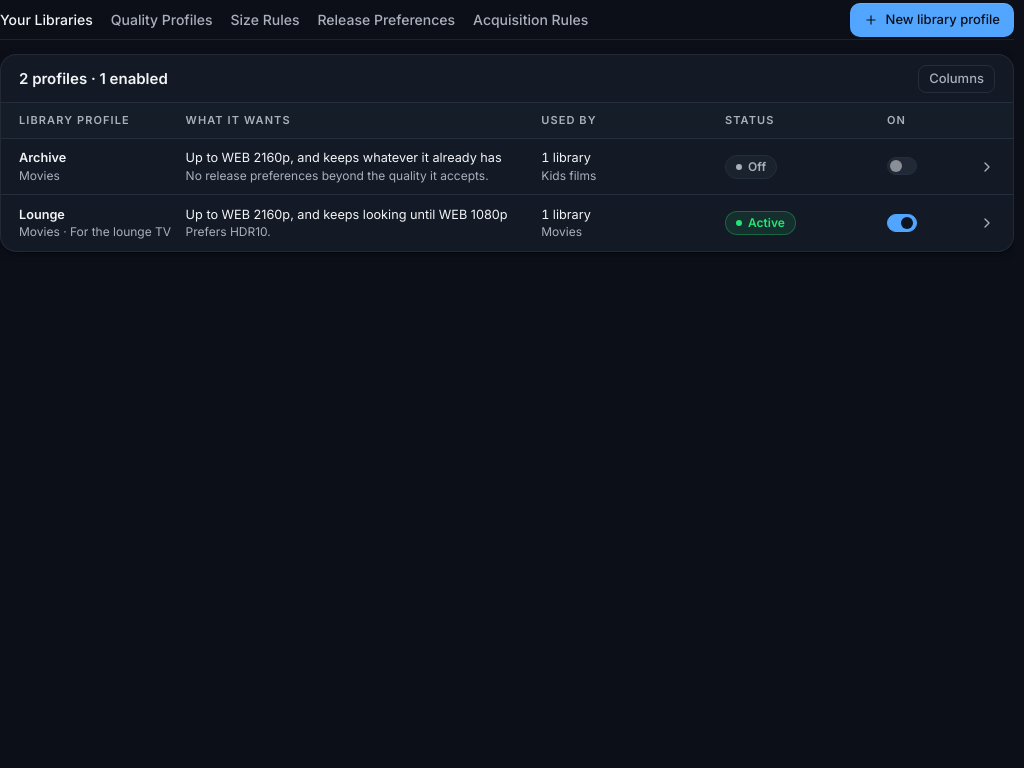
it: Library Profile drawer › saves the profile but names the library it could not be attached to when that part fails
The image size is (1024, 768).
Click the button "New library profile" at (932, 20), box 850,2 -> 1014,36
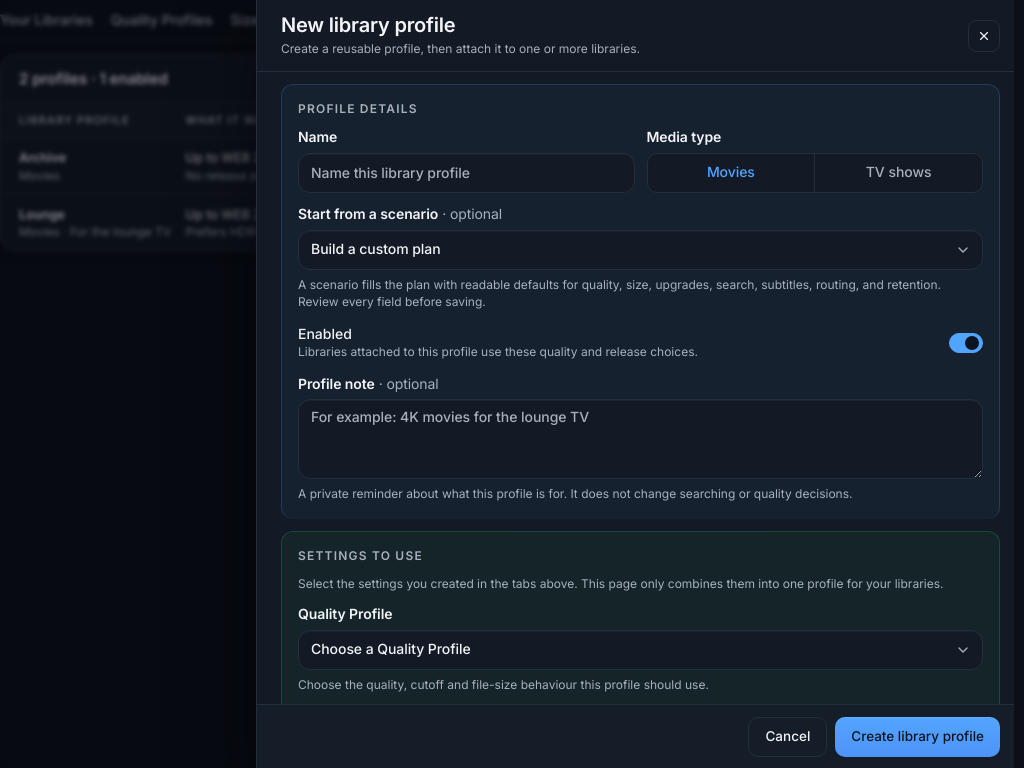
Type "Fresh" into the field with placeholder "Name this library profile" at (466, 173), box 298,153 -> 634,193
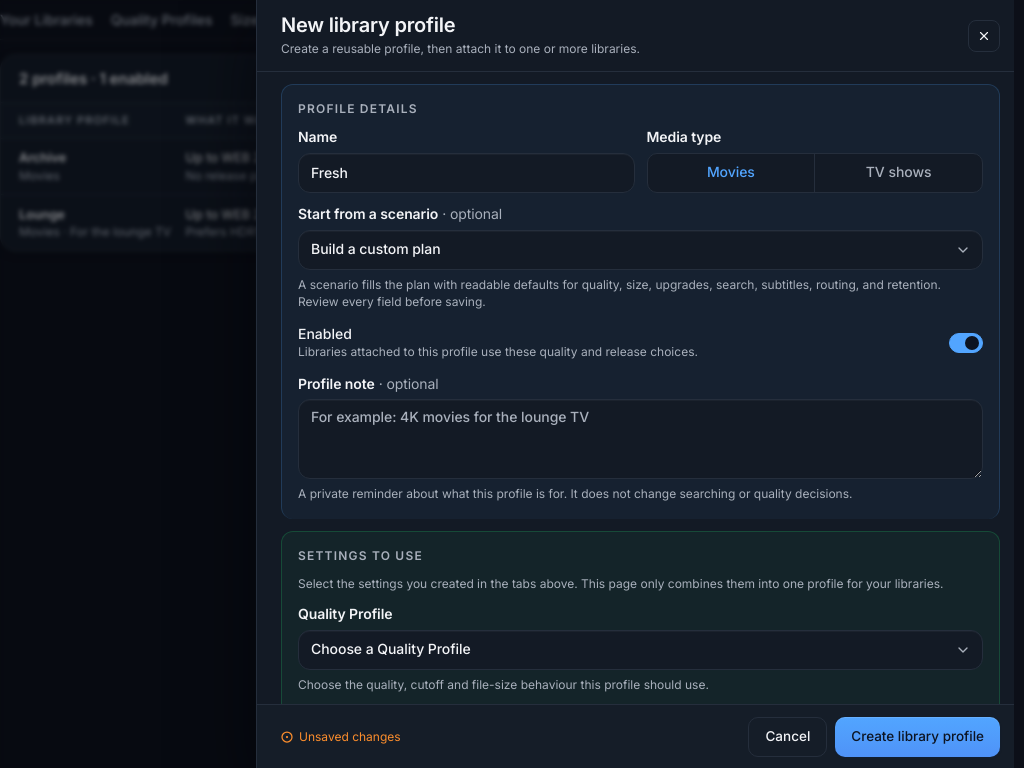
Select "Films 4K" in the dropdown labelled "Quality Profile" at (640, 650), box 298,630 -> 983,670
(page scrolled)
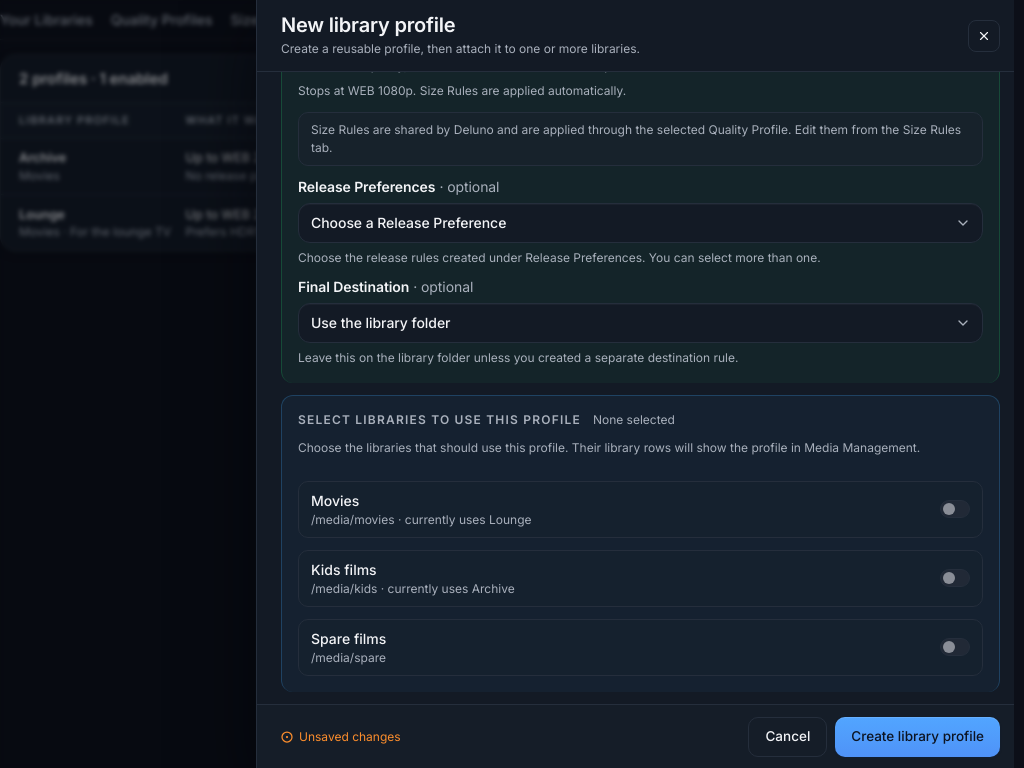
Click the switch named "Spare films" in the row of "Spare films" at (955, 647), box 940,638 -> 970,656
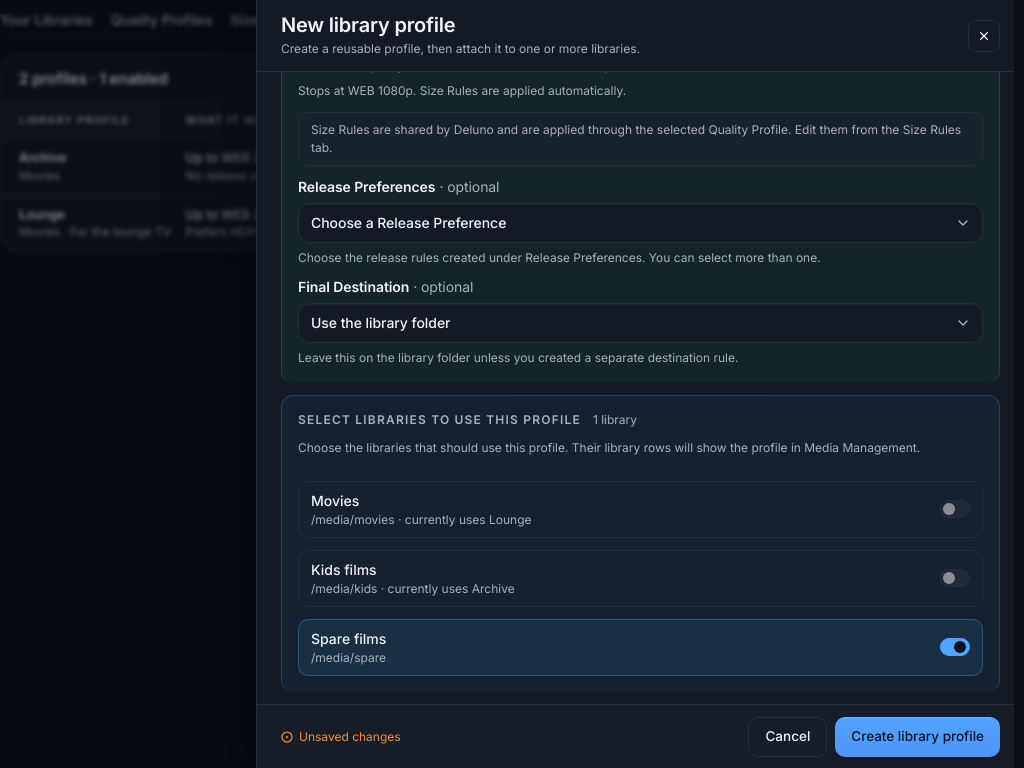
Click the button "Create library profile" at (918, 736), box 835,716 -> 1000,756
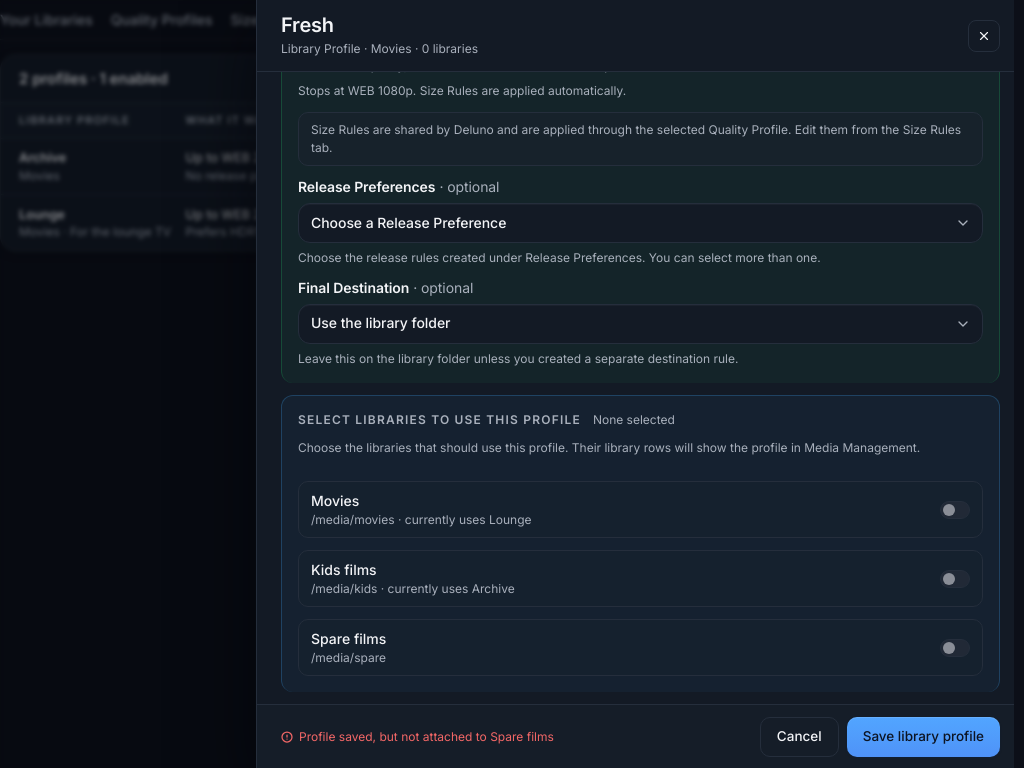
Now the text "Profile saved, but not attached to Spare films" is shown, box 299,728 -> 554,746
